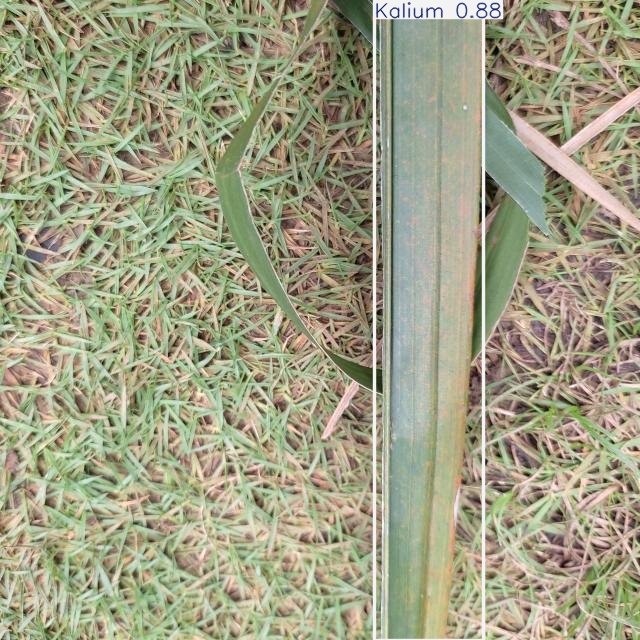Kalium: (375, 0, 483, 640)
